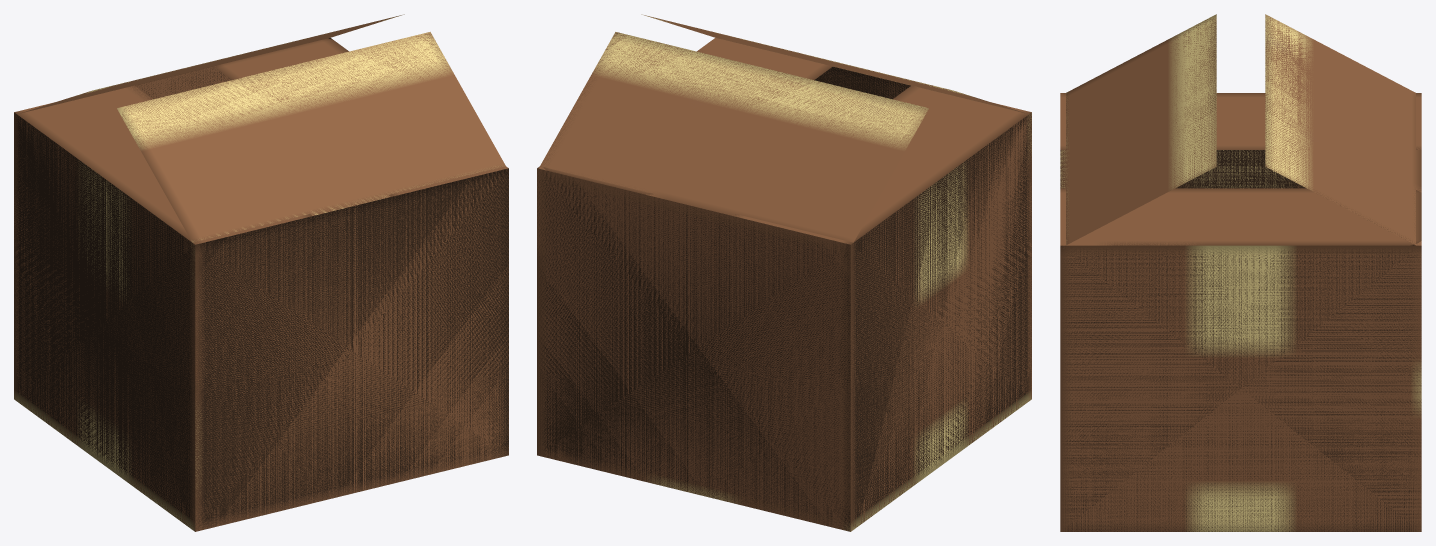
Rendered from CardboardBox.obj.
3 views of the same model, side by side, from view 1: azimuth 30°, elevation 25°; view 2: azimuth 150°, elevation 25°; view 3: azimuth 270°, elevation 25° (orthographic).
Parts seen in each view (by area): view 1: cube; view 2: cube; view 3: cube.
Part boxes in pixels (x1,y1,x2,y2): cube: (14,14,508,531); cube: (537,14,1031,531); cube: (1060,14,1421,531).
Bounding box in the file's own units: 1 × 1.12 × 1.
1 material, 1 textured.
